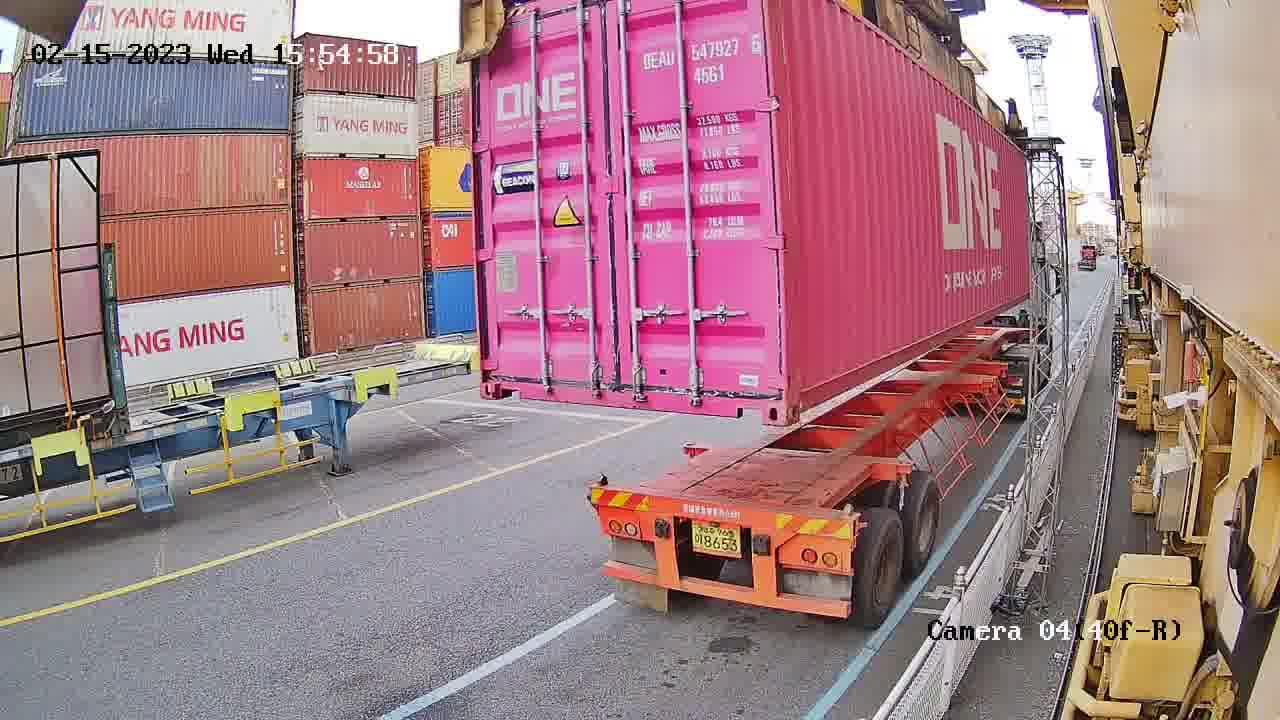Chassis: (590, 486, 854, 578)
Cone: (837, 501, 864, 547), (587, 473, 614, 519)
Hole_L: (790, 356, 837, 423), (479, 353, 528, 400)
Hole_R: (731, 367, 790, 423)
Tire: (859, 515, 907, 616), (905, 474, 944, 566)
